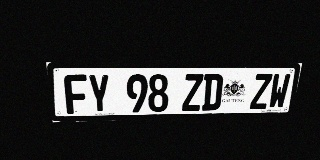8: (148, 74, 169, 112)
9: (127, 74, 148, 113)
D: (201, 74, 224, 111)
F: (63, 74, 89, 114)
W: (268, 74, 291, 109)
Y: (87, 74, 111, 114)
Z: (249, 74, 273, 109), (182, 74, 204, 111)
